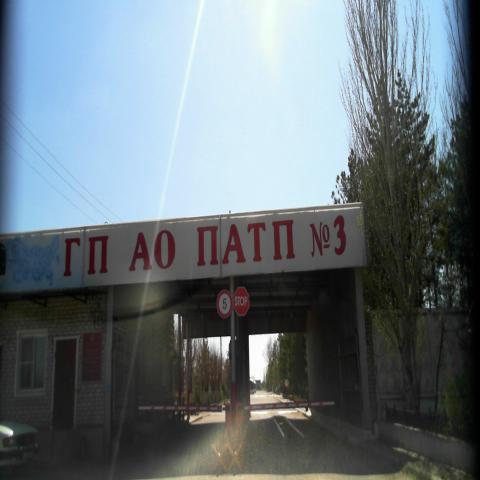2_5: (233, 284, 250, 318)
